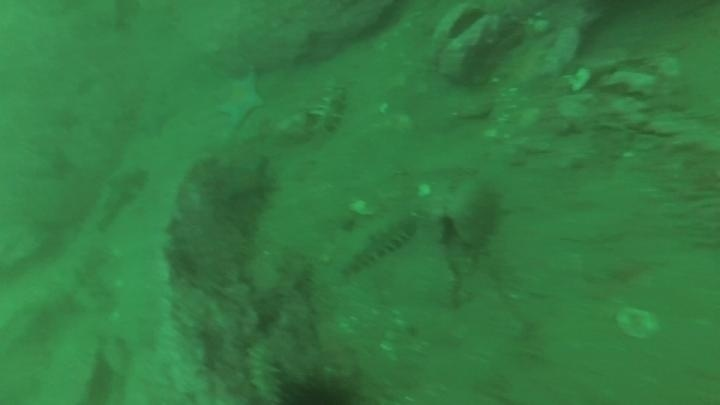echinus: (273, 362, 366, 405)
holothurian: (338, 214, 419, 279), (243, 339, 285, 405), (308, 80, 350, 138)
scallop: (613, 303, 663, 343)
starfish: (219, 156, 280, 212), (213, 70, 267, 130)
